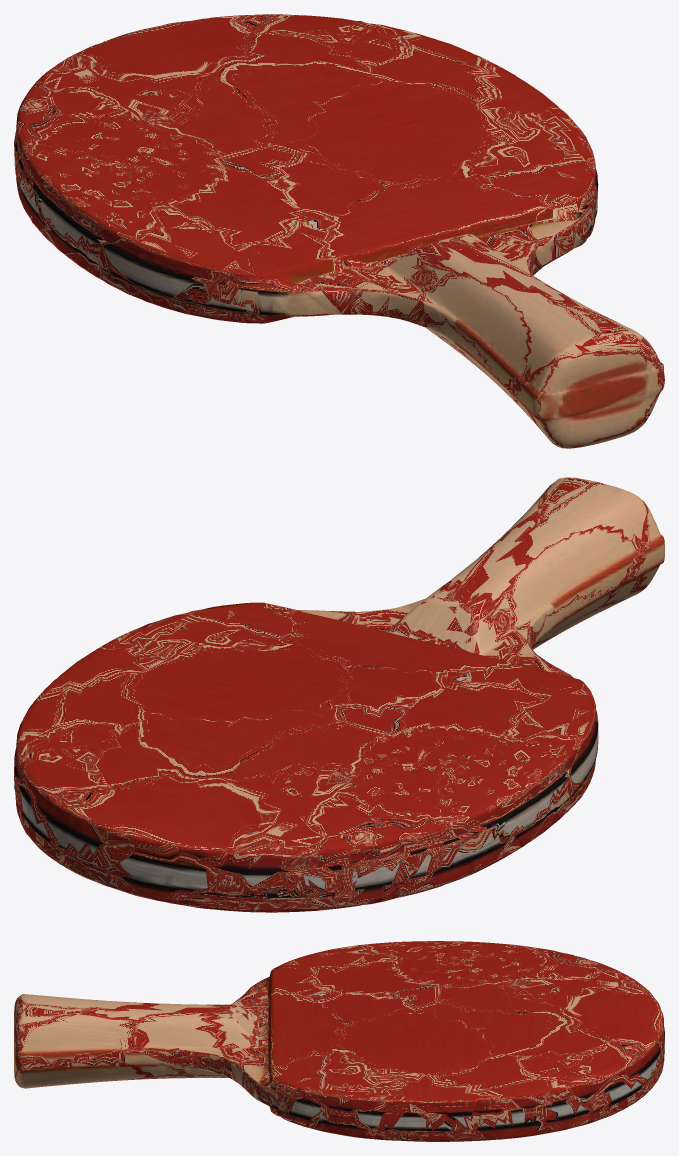
File: paddle_lite.glb
The picture shows the model from 3 angles, top to bottom: view 1: azimuth 30°, elevation 25°; view 2: azimuth 150°, elevation 25°; view 3: azimuth 270°, elevation 25°; orthographic projection. The views are drawn at different scales.
Parts seen in each view (by area): view 1: spectator; view 2: spectator; view 3: spectator.
Boxes of the visible parts, x1,y1,x2,y2 form: spectator: [14, 14, 664, 448]; spectator: [14, 477, 664, 912]; spectator: [14, 941, 664, 1141].
Size of the model in its own units: 0.7043 by 0.1526 by 1.19.
Materials: 1 (1 with a texture image).
